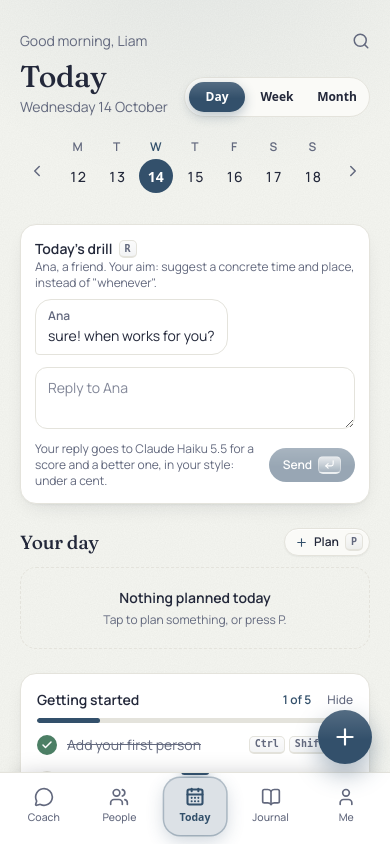
Analyse all new: who is left out › a run of only tiny conversations sends nothing and marks them seen
Click the button "Coach" at [44, 807], box [6,781,82,832]
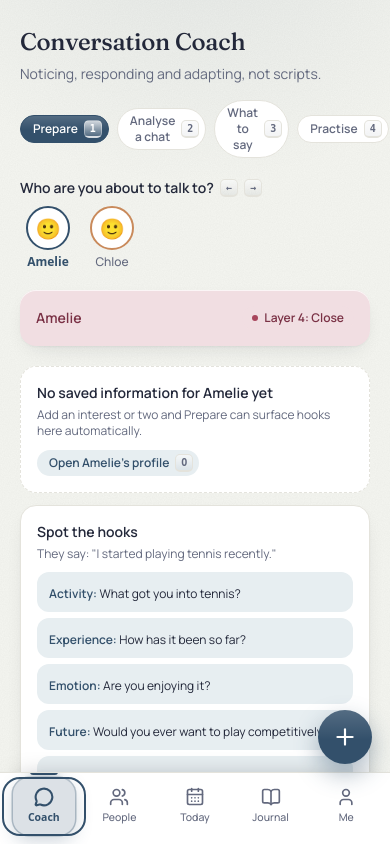
Click the button "Analyse a chat 2" at [162, 129], box [117,108,206,150]
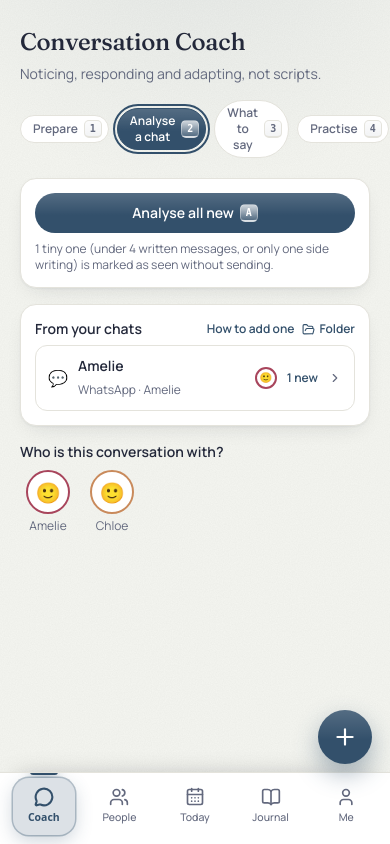
Result: the element labelled "Analyse all new" shows "1 tiny one (under 4 written messages, or only one side writing) is marked as seen without sending." at [35,240,329,273]
Click the button "Analyse all new A" at [195, 213], box [35,193,355,233]
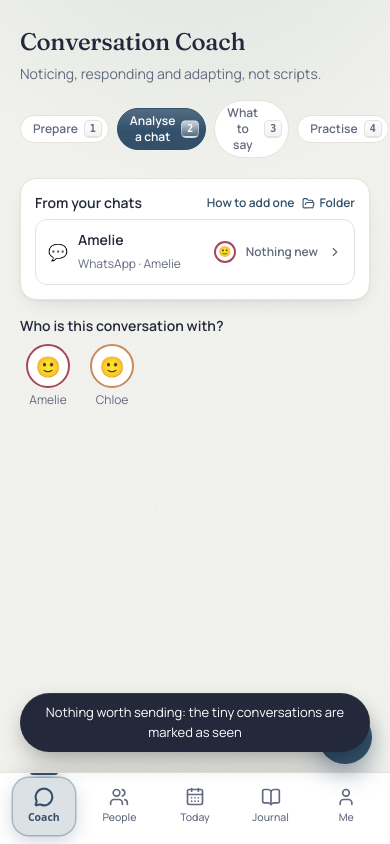
Result: the button "💬 Amelie WhatsApp · Amelie 🙂 Nothing new" is shown at [36,220,354,284]
Result: the button labelled "Analyse all new" is gone
